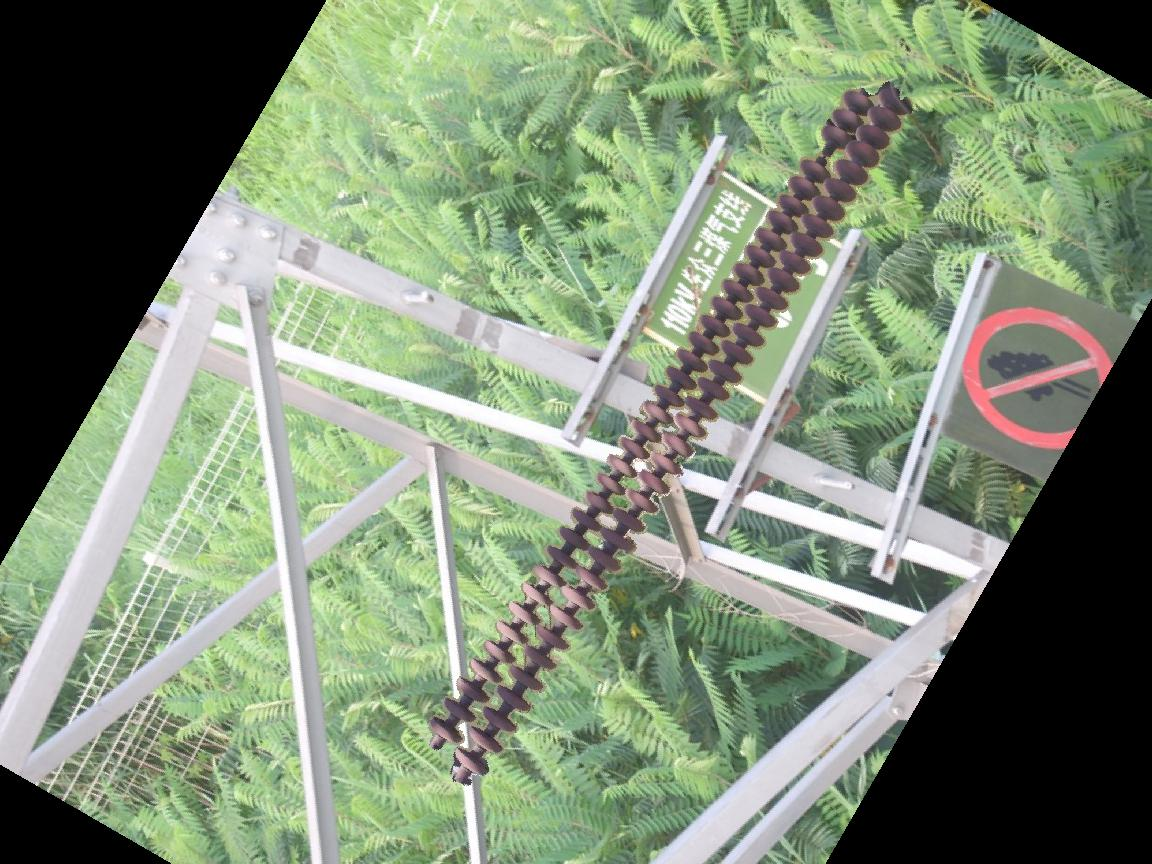insulator: (422, 80, 912, 781)
insulator_stringdrop: (799, 123, 853, 187)
